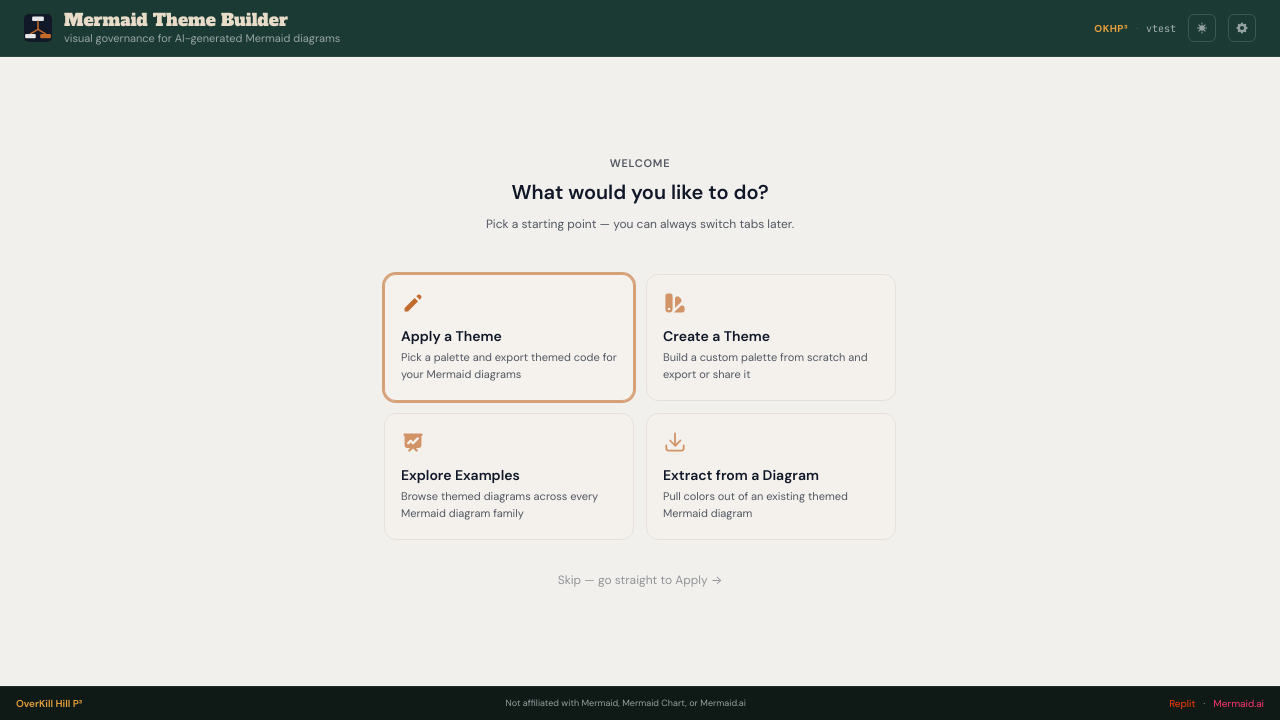
Test: AppShell first-use route selector integration › uses Apply as the destination when the user skips the welcome screen
Expected: the heading "What would you like to do?" is shown, x1=511 y1=179 x2=769 y2=205
Click the button with aria-label "Skip the welcome screen and go straight to Apply": [640, 580] box x1=558 y1=572 x2=722 y2=588
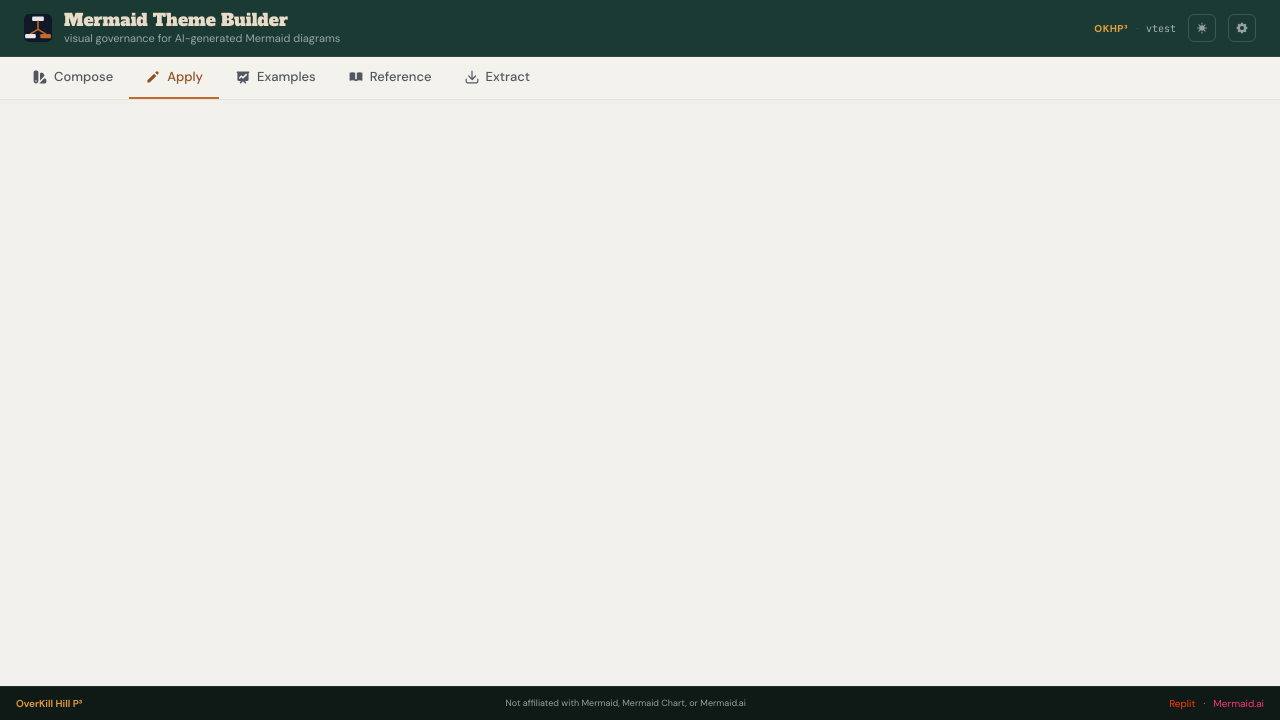
Result: the number of tabs "Apply" is 2
